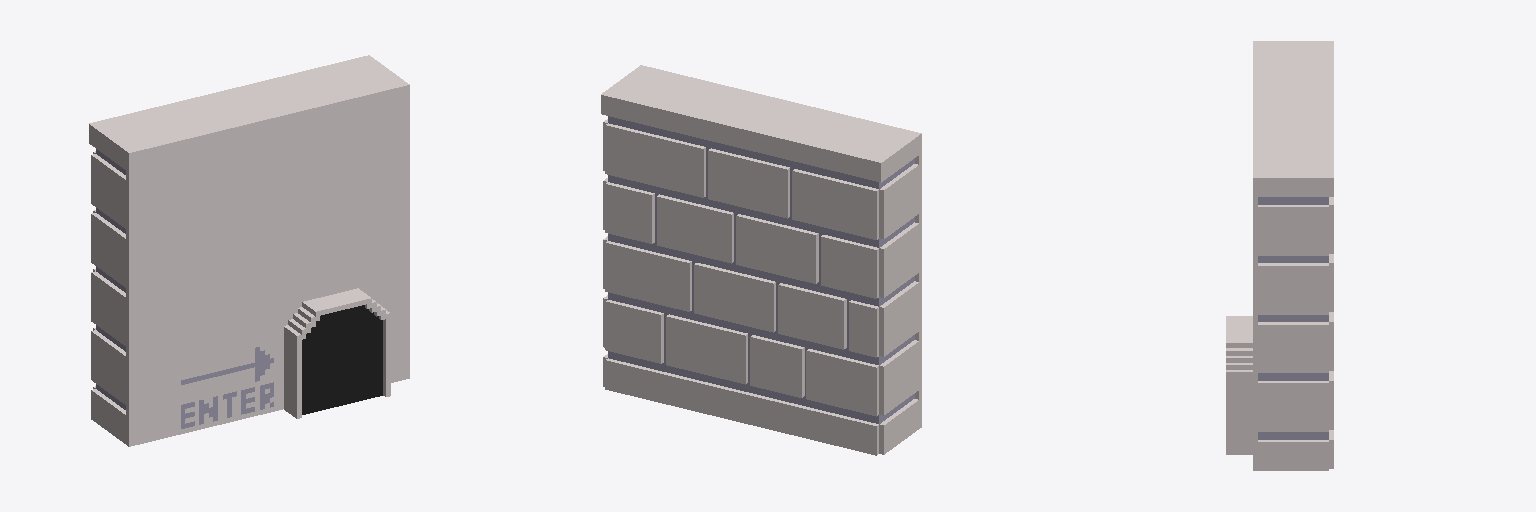
3 views of the same model, side by side, from view 1: azimuth 30°, elevation 25°; view 2: azimuth 150°, elevation 25°; view 3: azimuth 270°, elevation 25° (orthographic).
Parts seen in each view (by area): view 1: object 1; view 2: object 1; view 3: object 1.
Part boxes in pixels (left/top/right/bottom): object 1: left=89, top=55, right=409, bottom=446; object 1: left=601, top=65, right=921, bottom=455; object 1: left=1226, top=41, right=1333, bottom=470.
Bounding box in the file's own units: 6 × 6 × 2.
Materials: 1 (1 with a texture image).